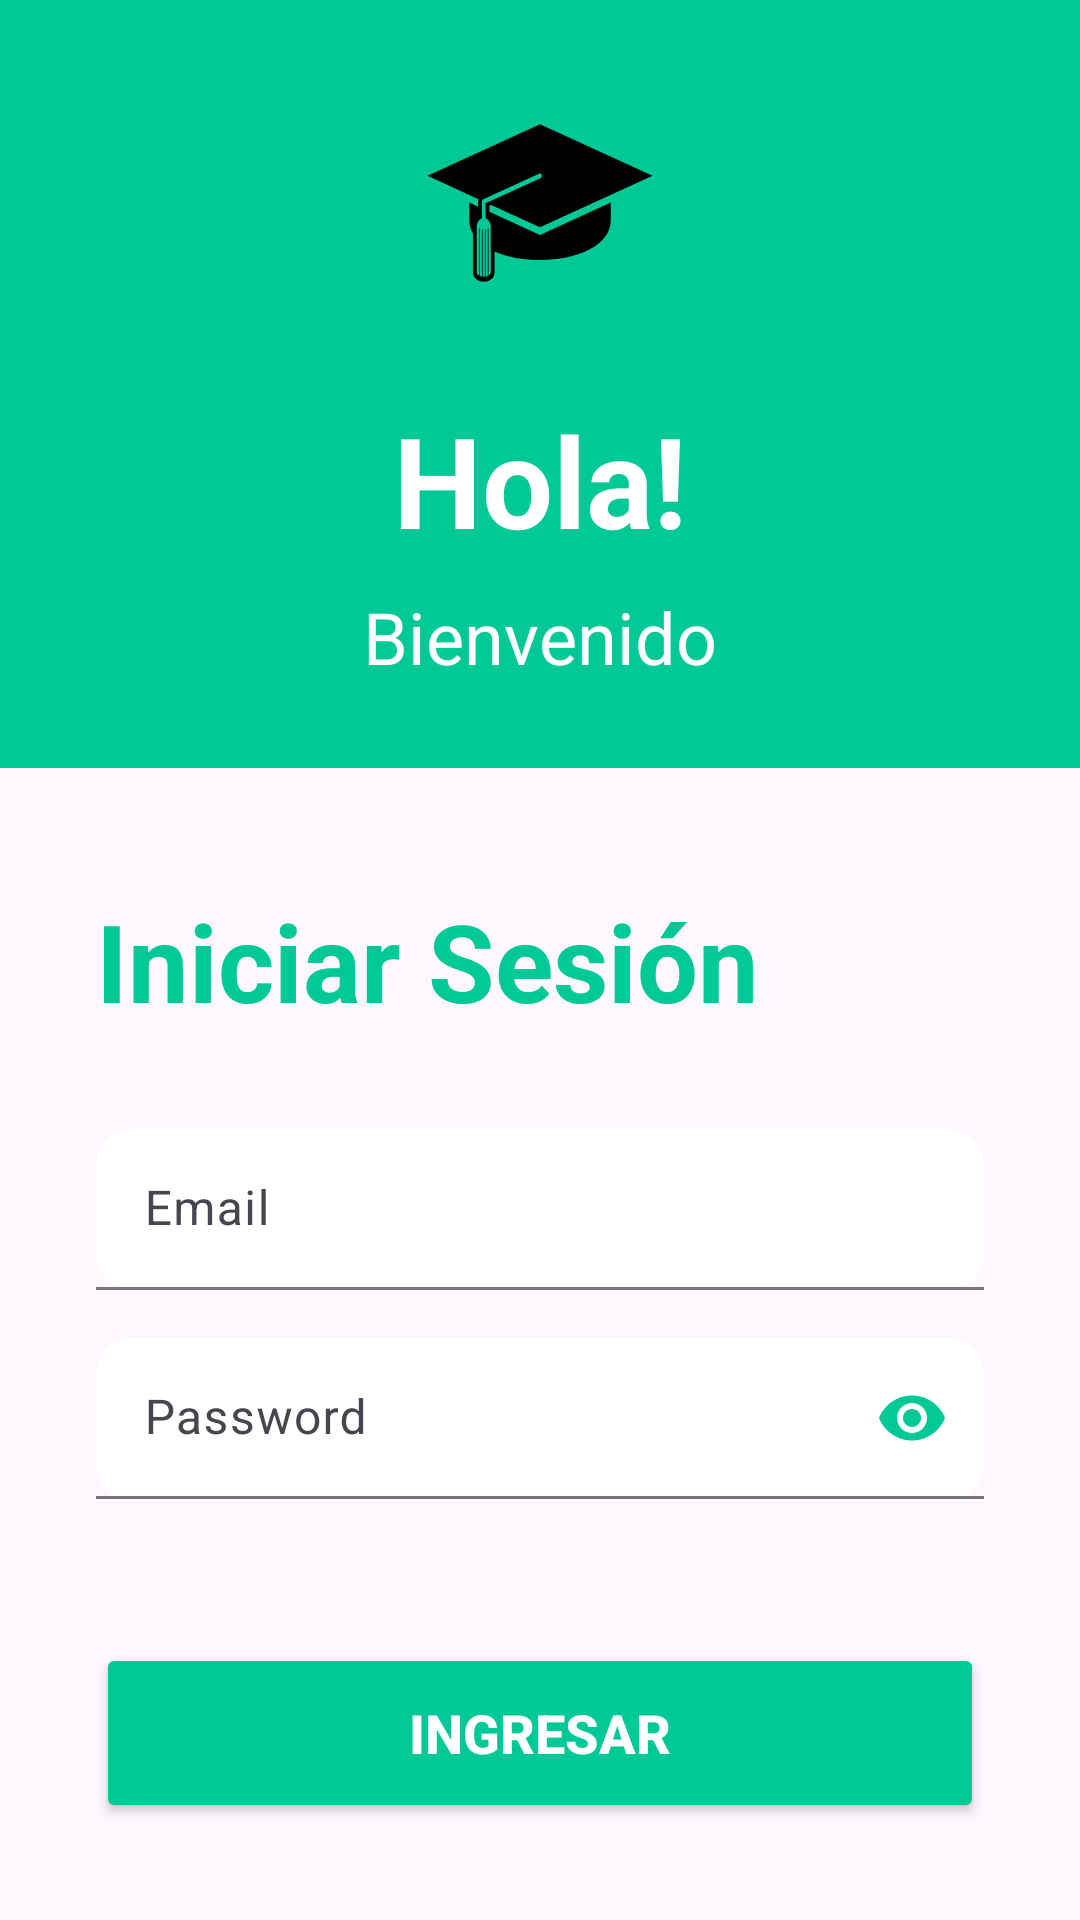

Named icons in this screenshot (1080px x 1920px) and their centers, [x,y]:
Icono de birrete: [540,203]
